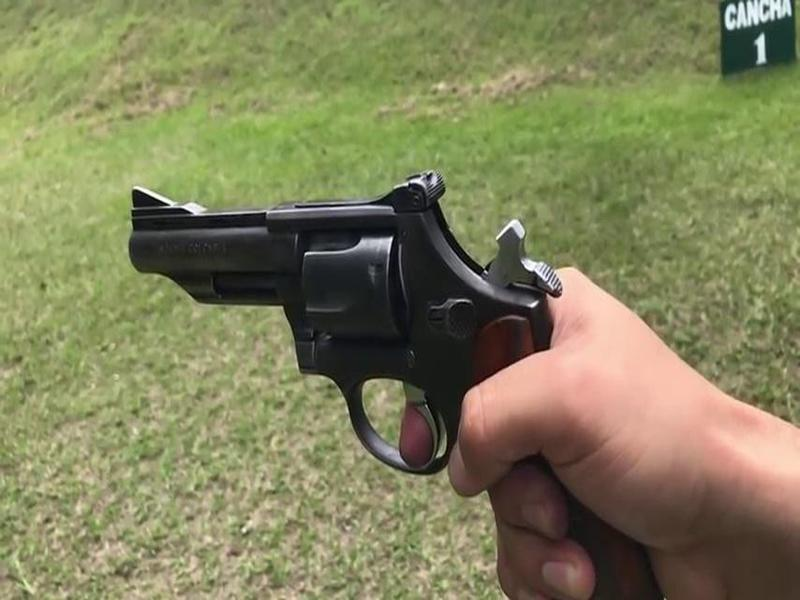Revolver: (100, 167, 567, 523)
